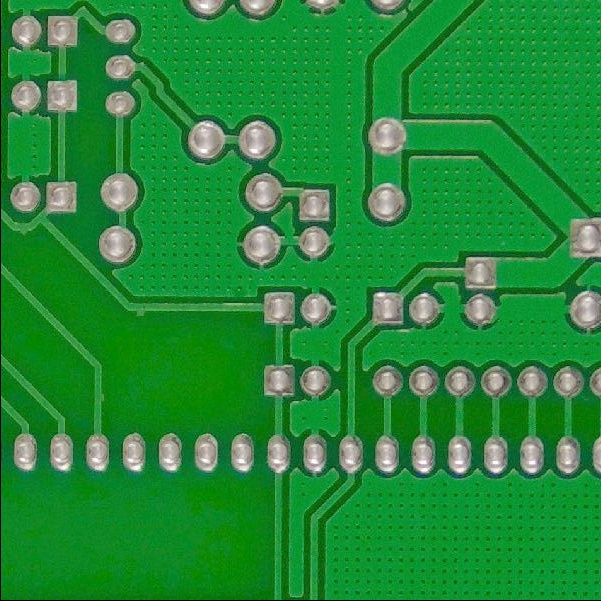spur: (128, 301, 149, 321), (94, 387, 110, 409)
